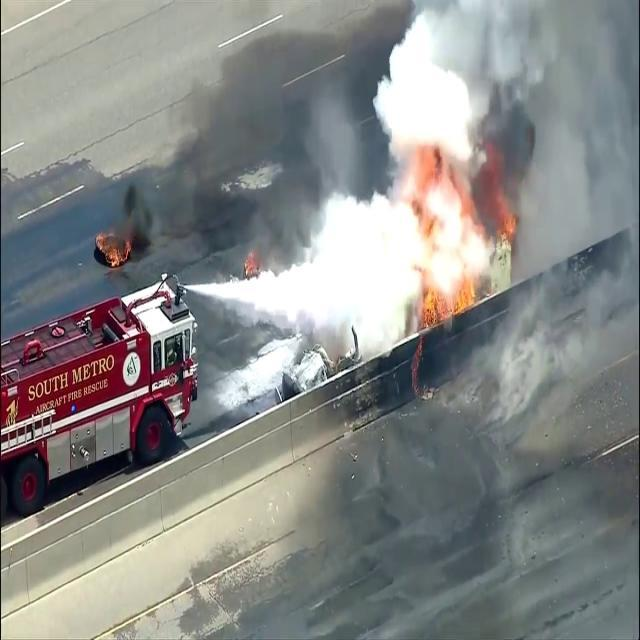Smoke: (97, 1, 628, 220), (108, 2, 416, 266), (428, 1, 630, 214)
